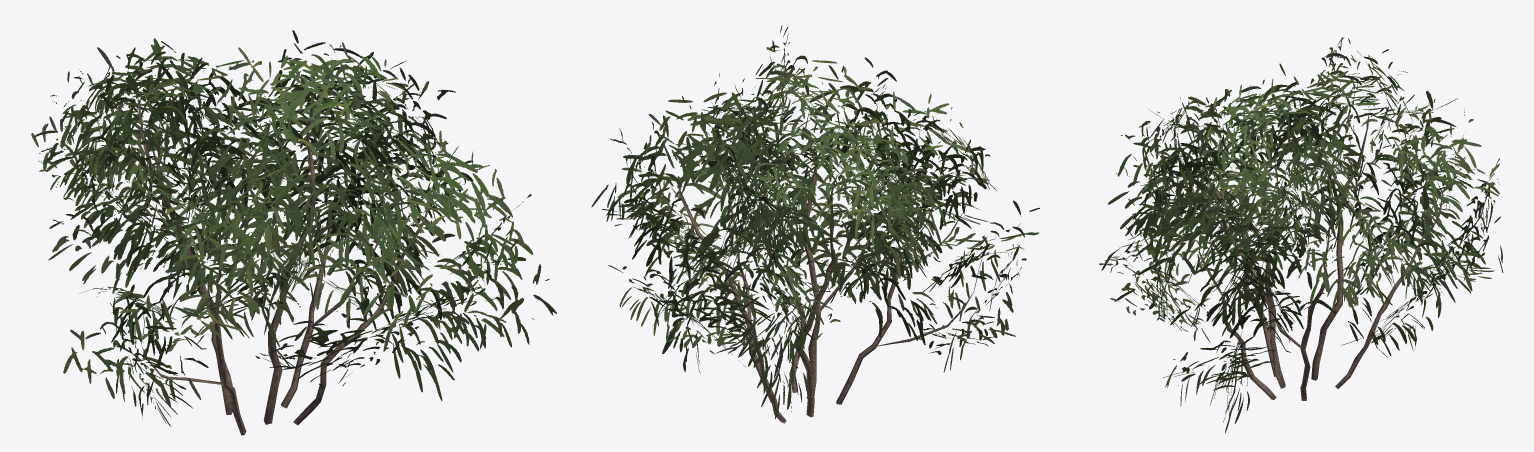
File: oleander-c.glb
3 renders of one model, left to right at view 1: azimuth 30°, elevation 25°; view 2: azimuth 150°, elevation 25°; view 3: azimuth 270°, elevation 25°, orthographic. The views are drawn at different scales.
Parts seen in each view (by area): view 1: oleander-c; view 2: oleander-c; view 3: oleander-c.
Part boxes in pixels (box(x1,y1,x2,y2)): oleander-c: box(31, 30, 556, 435); oleander-c: box(591, 25, 1039, 423); oleander-c: box(1099, 37, 1503, 433).
Size of the model in its own units: 2.62 by 2.15 by 2.49.
Materials: 2 (2 with a texture image).
